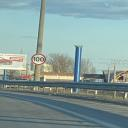speed_limit_100: (31, 54, 49, 66)
